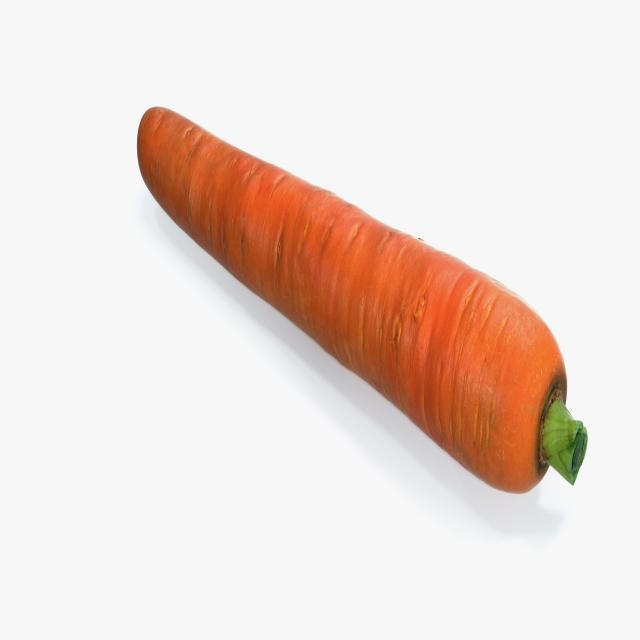carrot: (133, 103, 590, 510)
